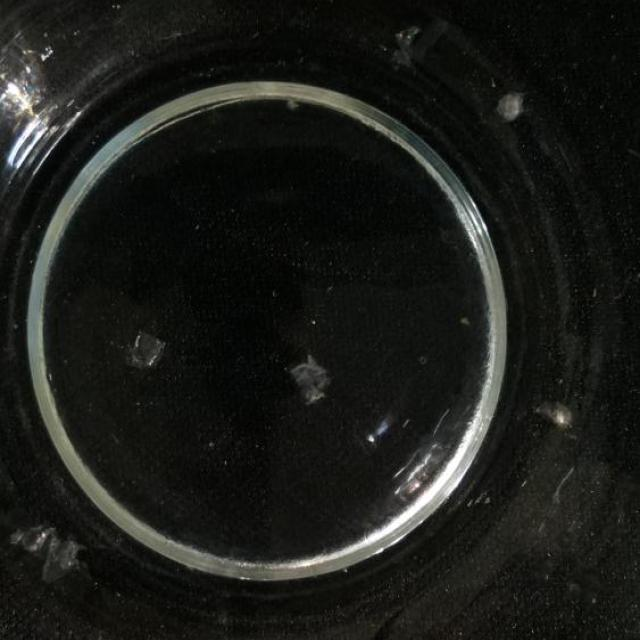fiber: (0, 511, 94, 603), (287, 346, 350, 411), (378, 15, 425, 90), (116, 318, 173, 379), (491, 80, 533, 139)
